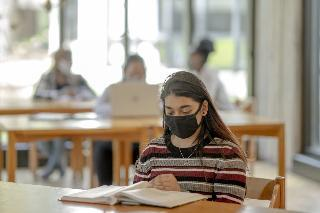person - v3 P: (134, 72, 247, 203), (189, 39, 235, 110), (34, 49, 95, 100), (94, 141, 112, 185)
